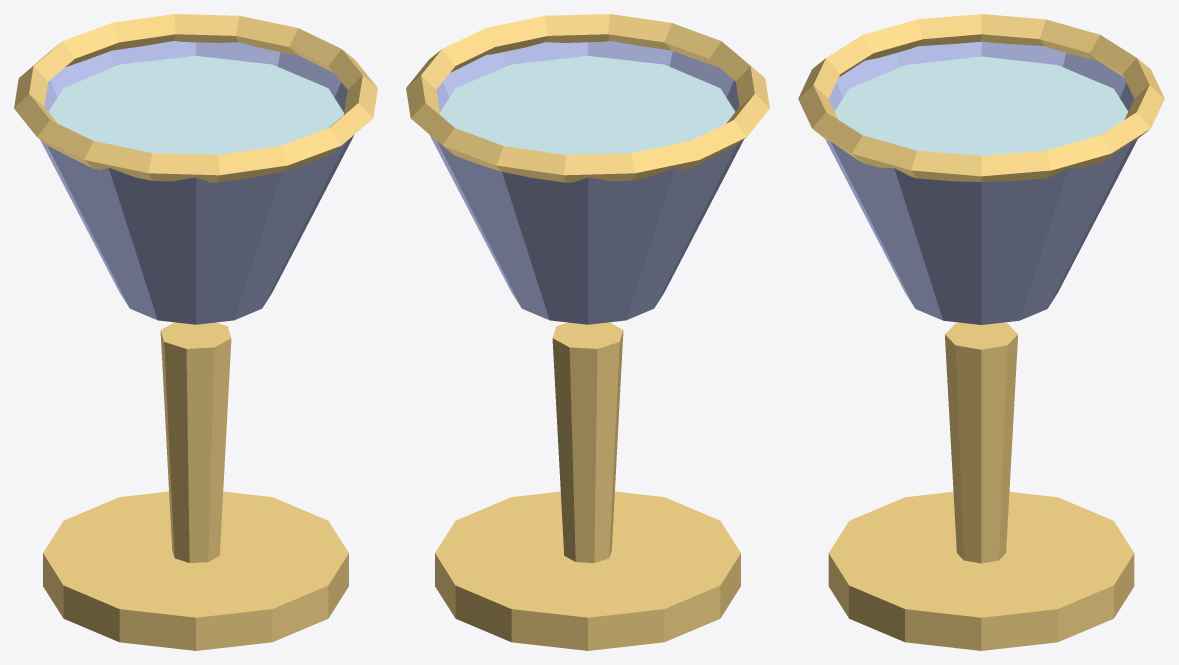
Rendered from chalice.fbx.
The picture shows the model from 3 angles, left to right: view 1: azimuth 30°, elevation 25°; view 2: azimuth 150°, elevation 25°; view 3: azimuth 270°, elevation 25°; orthographic projection.
Parts seen in each view (by area): view 1: chalice.Gold, chalice.Main, chalice.Glow; view 2: chalice.Gold, chalice.Main, chalice.Glow; view 3: chalice.Gold, chalice.Main, chalice.Glow.
Part boxes in pixels (x1=…): chalice.Gold: x1=14, y1=14, x2=377, y2=650; chalice.Main: x1=40, y1=41, x2=353, y2=324; chalice.Glow: x1=48, y1=56, x2=343, y2=154; chalice.Gold: x1=406, y1=14, x2=769, y2=650; chalice.Main: x1=430, y1=41, x2=743, y2=324; chalice.Glow: x1=440, y1=56, x2=735, y2=154; chalice.Gold: x1=798, y1=14, x2=1164, y2=650; chalice.Main: x1=825, y1=41, x2=1137, y2=324; chalice.Glow: x1=834, y1=56, x2=1128, y2=155.
Bounding box in the file's own units: 1.2 × 1.81 × 1.2.
